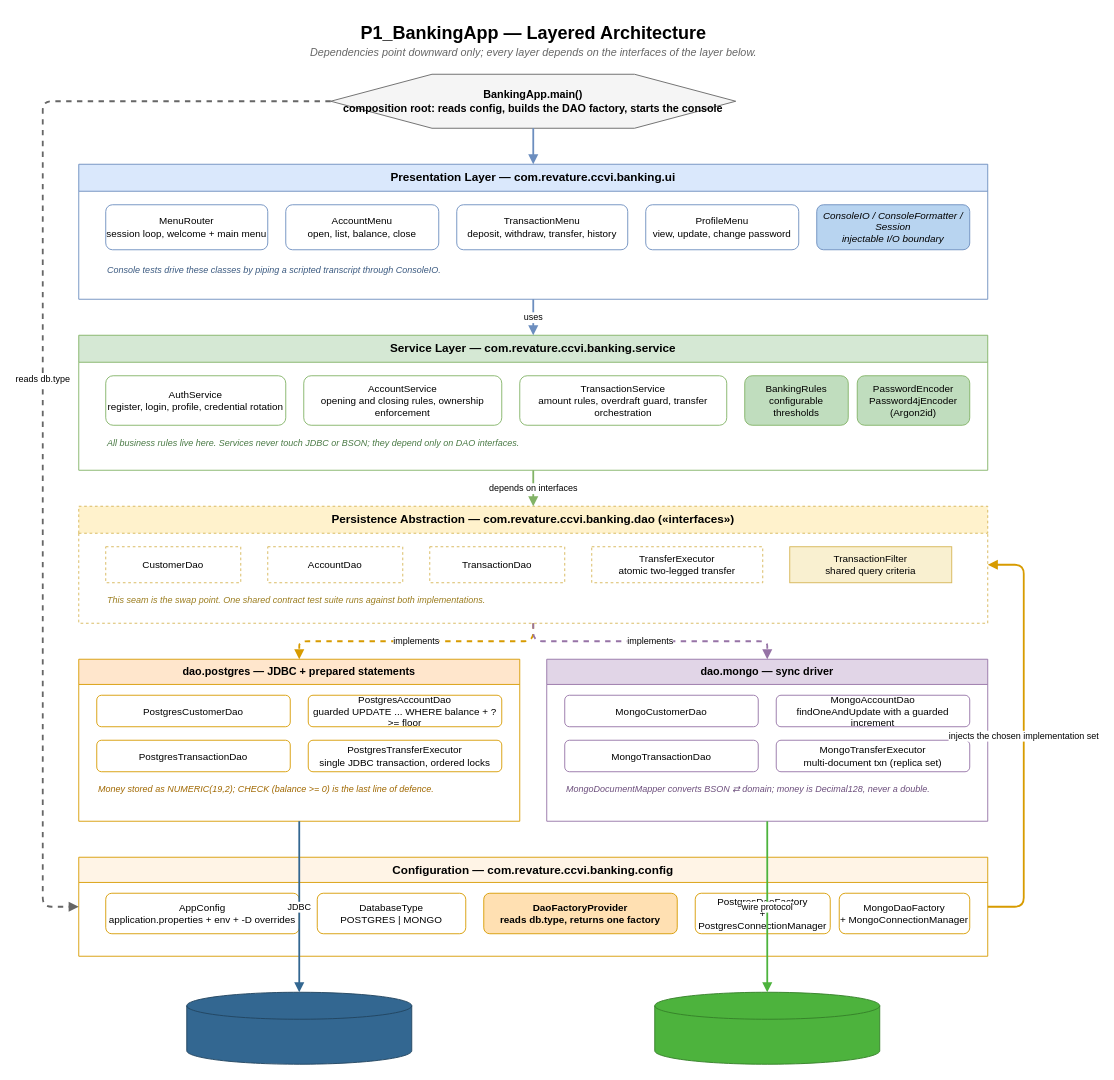
Some shapes in this 1114 by 1080 pixel diagram are drawn without their labels. Each missing label, with the centre of its shape:
"MongoDB 8 (replica set) customers / accounts / transactions" goes at [767,1027].
"PostgreSQL 16 customers / accounts / transactions" goes at [299,1027].
